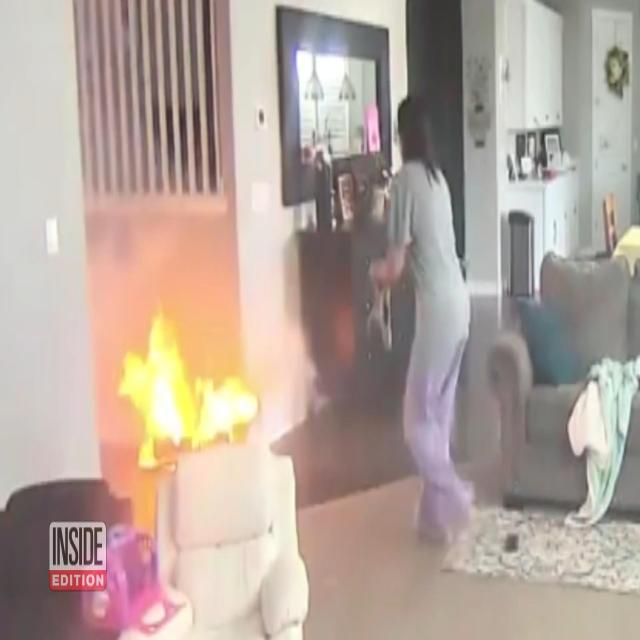fire: (117, 310, 259, 468)
